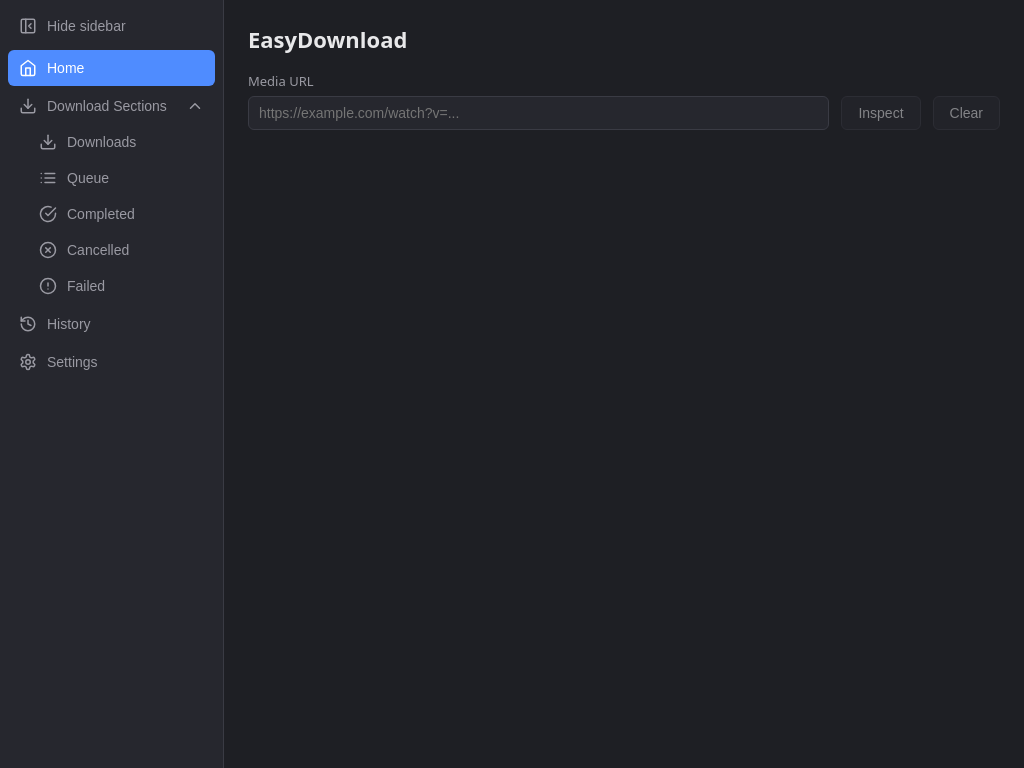
Test: App › expands and collapses the Download Sections group
This screenshot has width=1024, height=768.
Click the button "Download Sections": (112,106) x1=8 y1=88 x2=215 y2=124
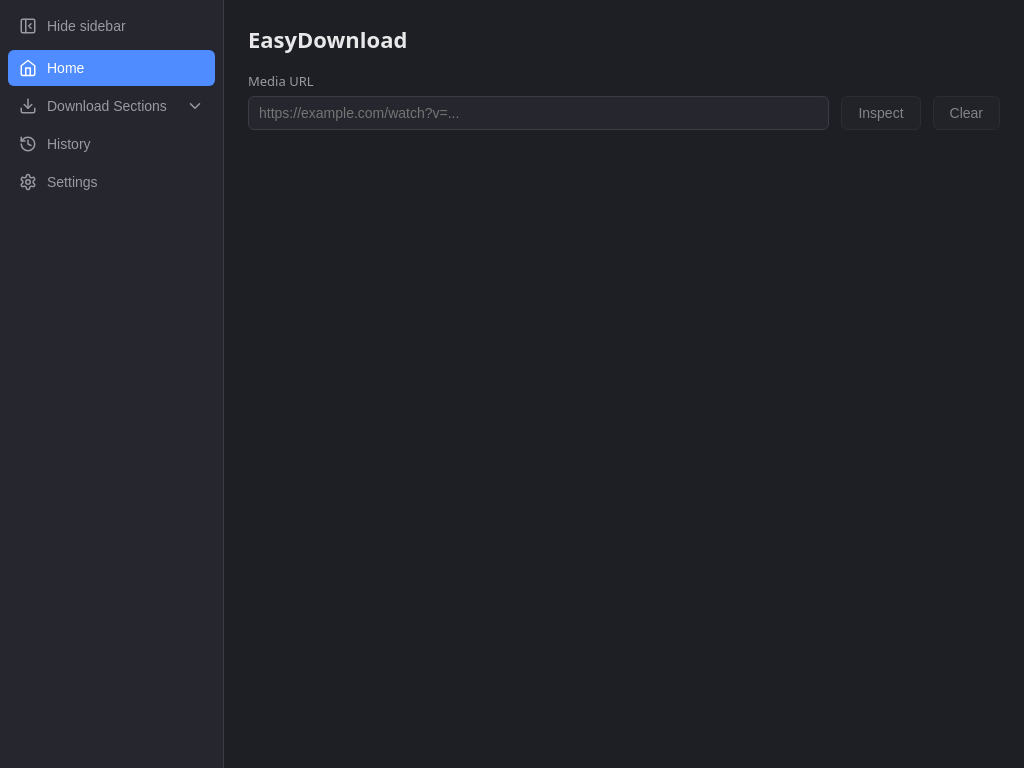
Now the button "Download Sections" is collapsed
Click the button "Download Sections": (112,106) x1=8 y1=88 x2=215 y2=124
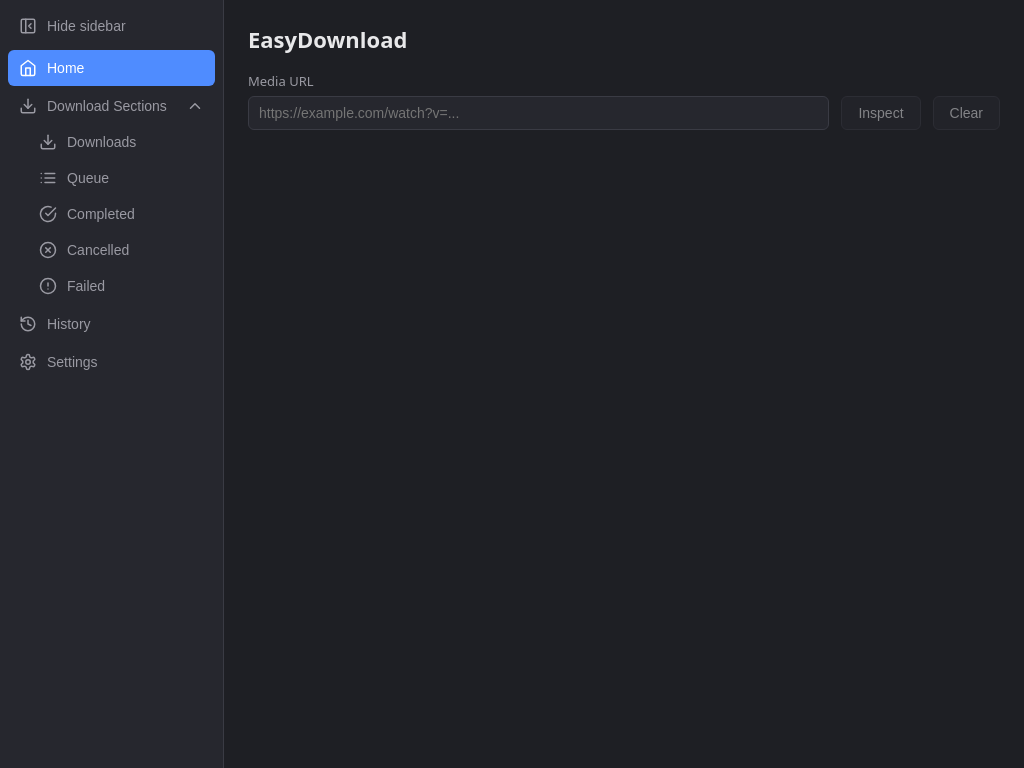
Now the button "Download Sections" is expanded, box x1=8 y1=88 x2=215 y2=124
